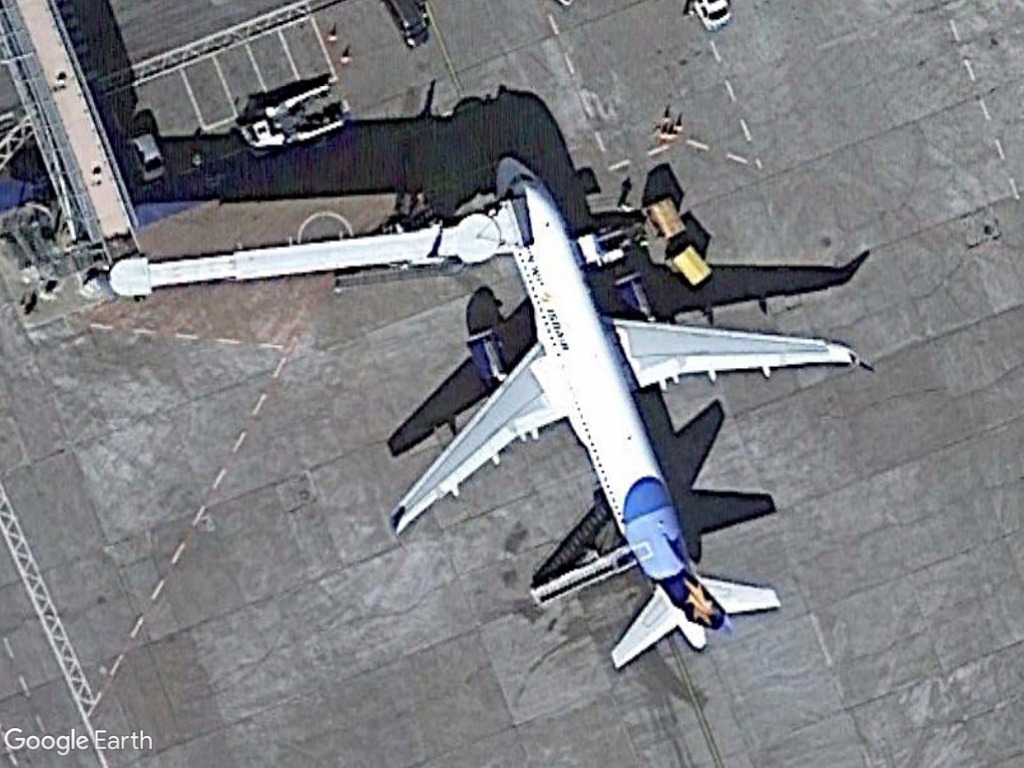airliner: (382, 152, 873, 683)
stairtruck: (526, 542, 632, 615)
